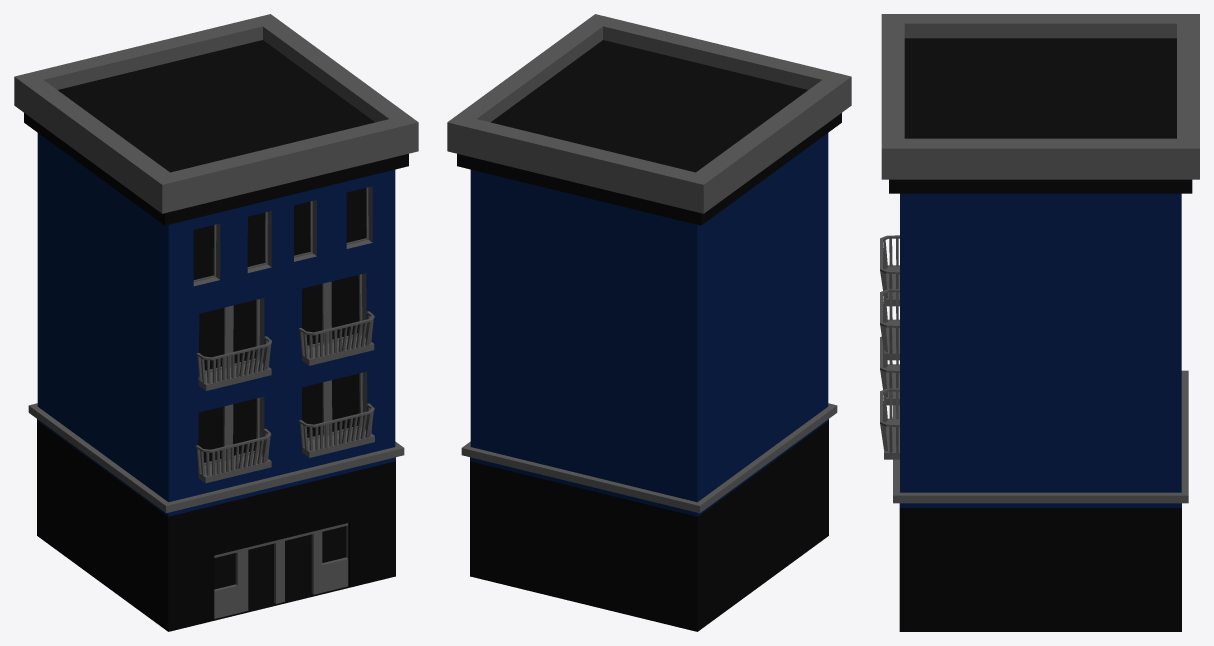
Rendered from Apartment.obj.
3 views of the same model, side by side, from view 1: azimuth 30°, elevation 25°; view 2: azimuth 150°, elevation 25°; view 3: azimuth 270°, elevation 25° (orthographic). The views are drawn at different scales.
Visible parts, largest first — view 1: Appartment.002_Cube.012; view 2: Appartment.002_Cube.012; view 3: Appartment.002_Cube.012.
Boxes of the visible parts, box(x1,y1,x2,y2) form: Appartment.002_Cube.012: box(14, 14, 418, 631); Appartment.002_Cube.012: box(447, 14, 851, 631); Appartment.002_Cube.012: box(880, 14, 1199, 631).
Bounding box in the file's own units: 7.67 × 13.05 × 7.7.
